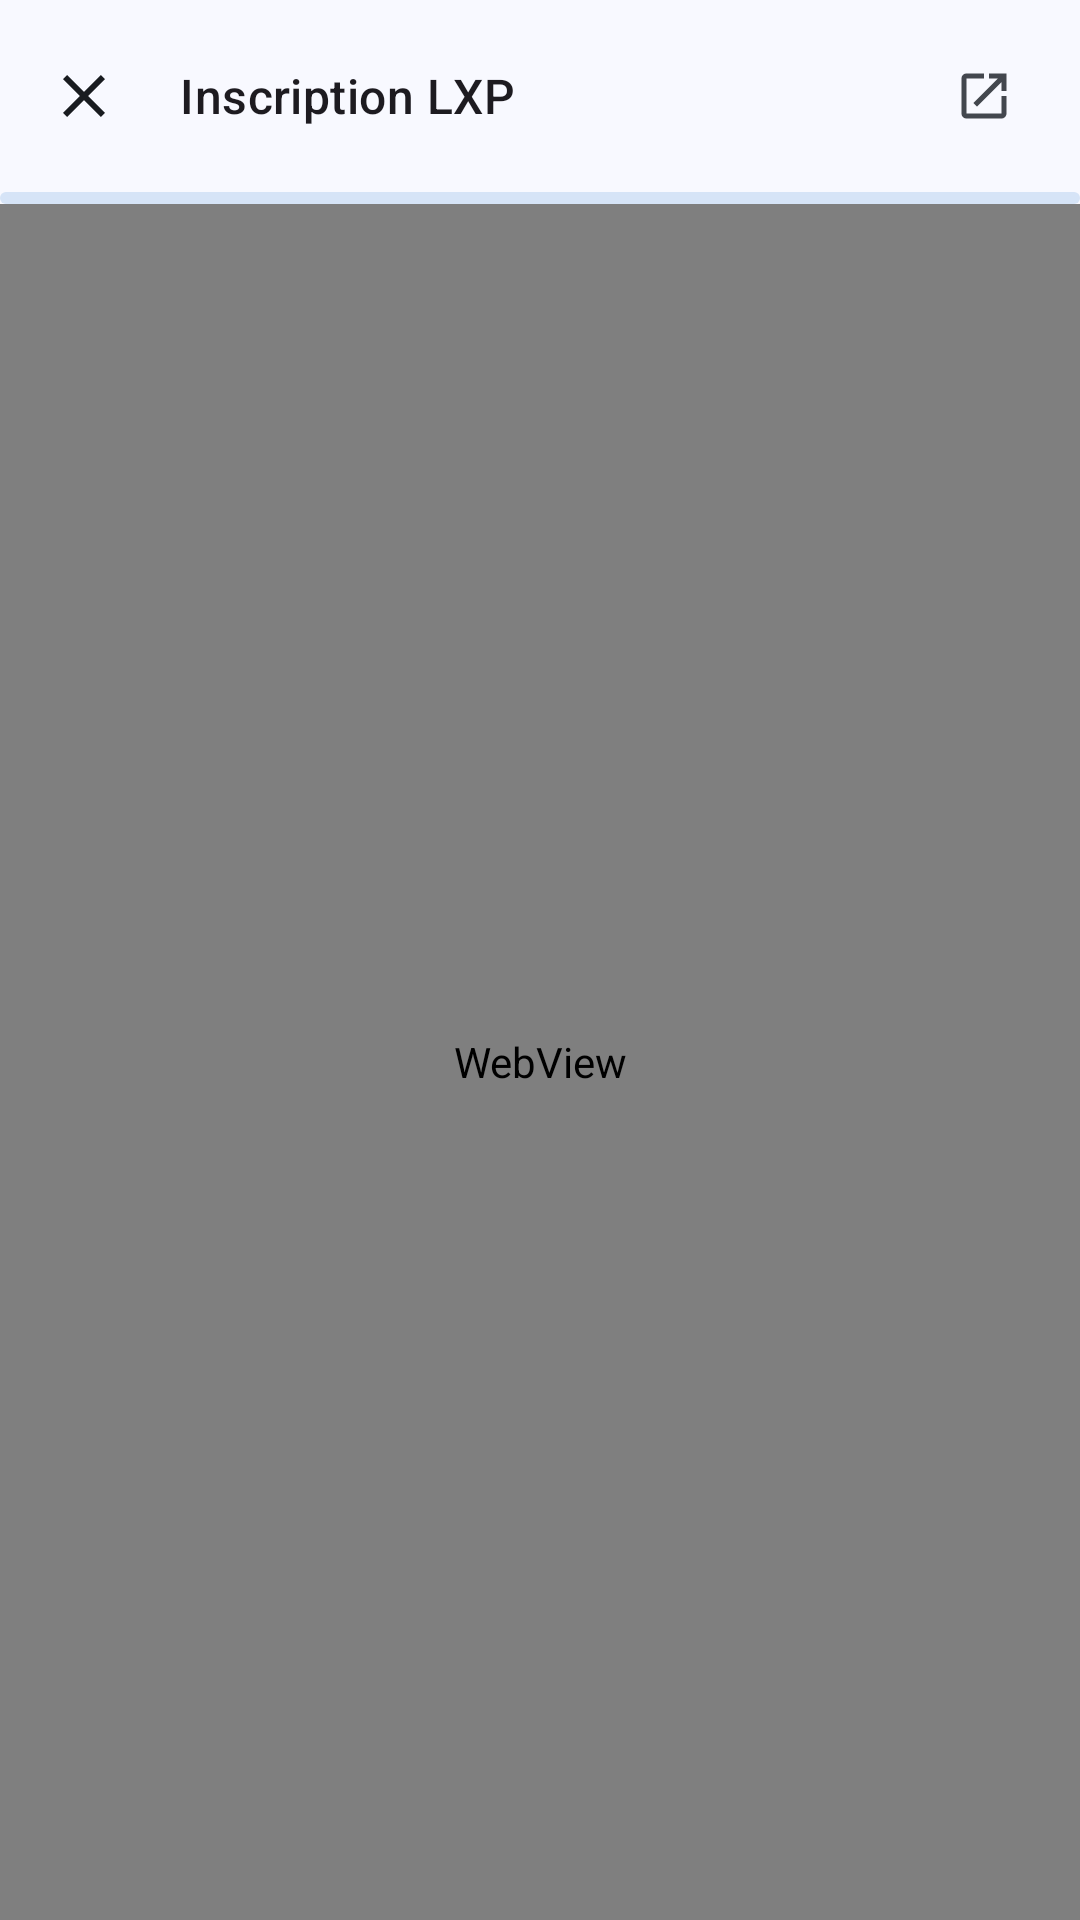

Icon click points for this 1080px×1920px phone screenshot, format point (x, y):
open in: point (984, 96)
